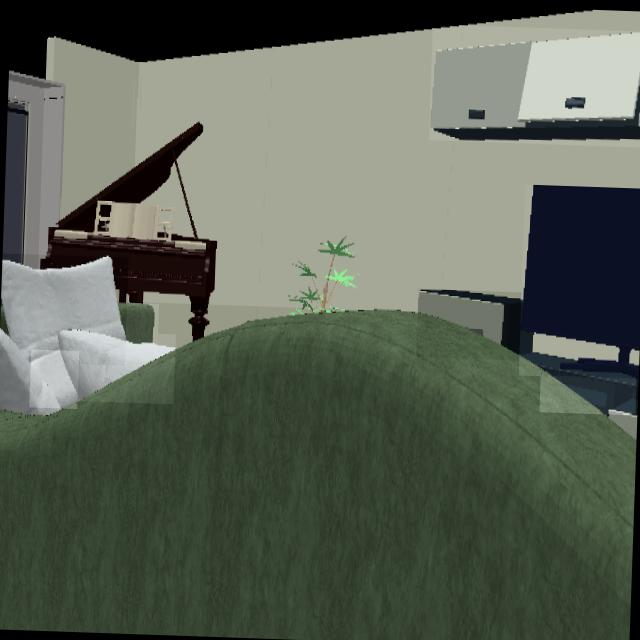cabinet: (429, 31, 640, 141), (417, 290, 535, 360), (542, 365, 635, 414)
monitor: (520, 185, 640, 378)
pillow: (0, 256, 125, 362), (58, 330, 175, 401), (0, 330, 61, 416), (30, 350, 77, 408)
sofa: (0, 310, 635, 640), (118, 303, 158, 345), (0, 299, 9, 337)
